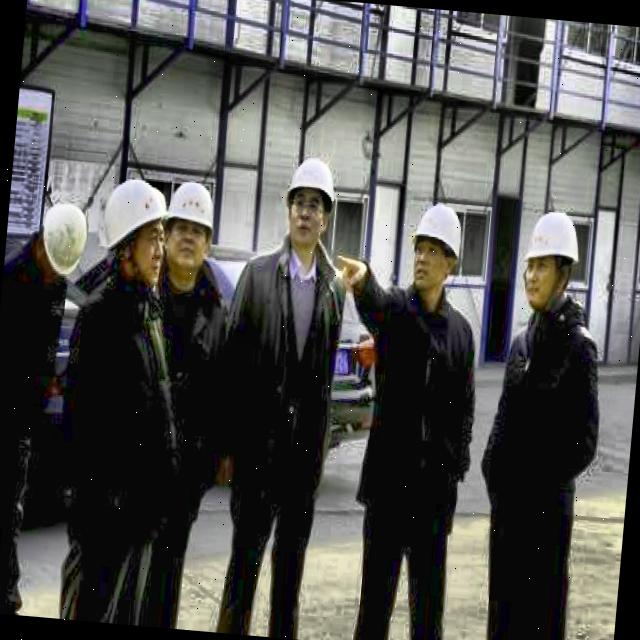helmet: (100, 175, 174, 292), (514, 200, 586, 319), (277, 146, 341, 258), (404, 194, 470, 301), (156, 172, 220, 280), (38, 198, 88, 288)
